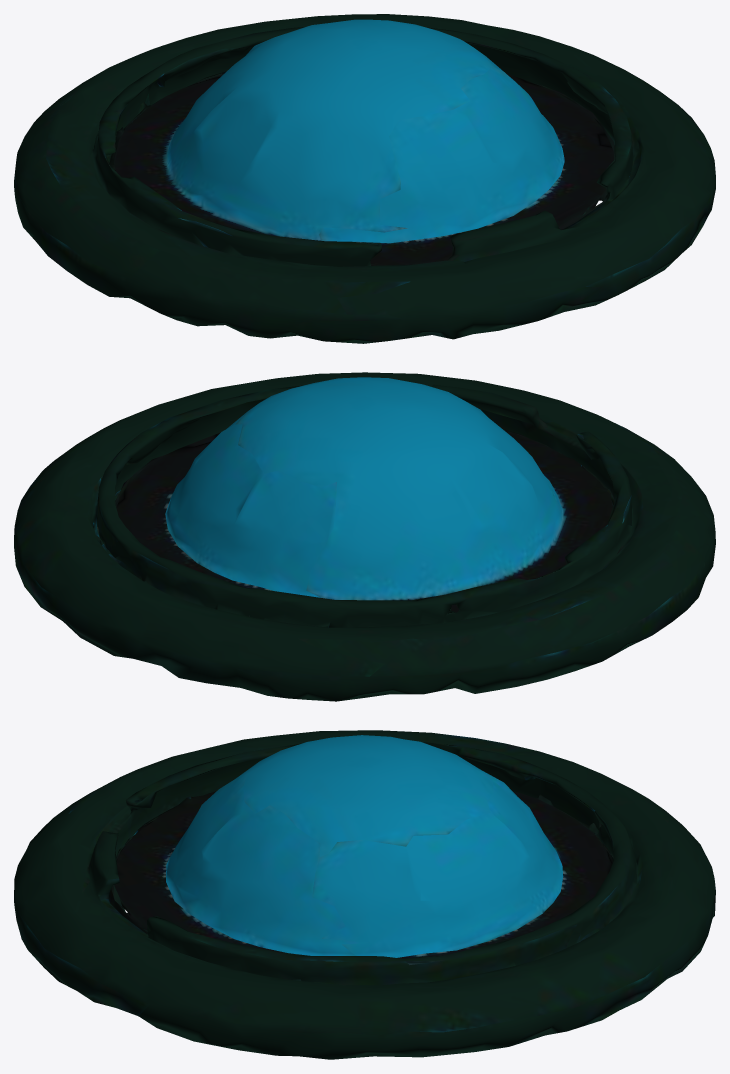
File: kn_shield_emitter.glb
3 renders of one model, top to bottom at view 1: azimuth 30°, elevation 25°; view 2: azimuth 150°, elevation 25°; view 3: azimuth 270°, elevation 25°, orthographic.
Visible parts, largest first — view 1: geometry_0; view 2: geometry_0; view 3: geometry_0.
Part boxes in pixels (x1,y1,x2,y2): geometry_0: (14, 14, 715, 343); geometry_0: (14, 372, 715, 701); geometry_0: (14, 730, 715, 1059).
Size of the model in its own units: 1 by 0.2537 by 1.
Materials: 1 (1 with a texture image).
